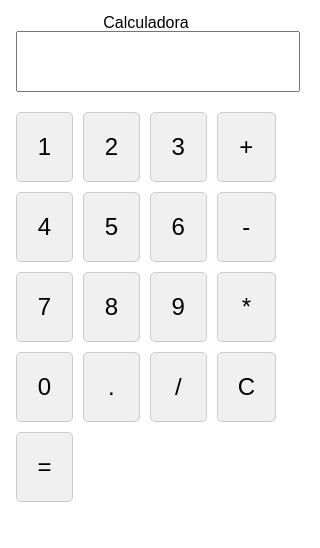
Test: Calculator Component › displays error for invalid input
This screenshot has width=320, height=548.
Click the button "1" at (44, 147), box [16,112,73,182]
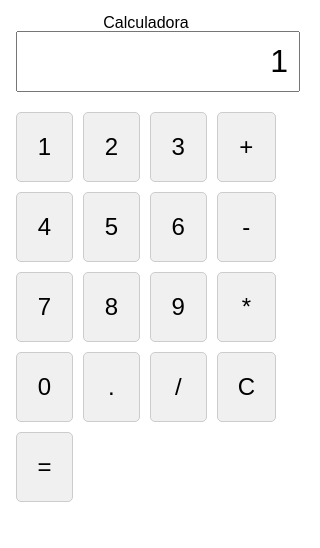
Click the button "+" at (246, 147), box [217,112,276,182]
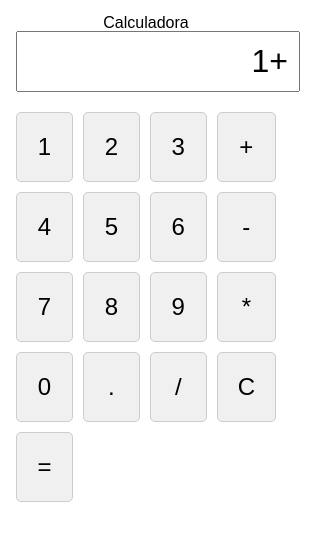
Click the button "+" at (246, 147), box [217,112,276,182]
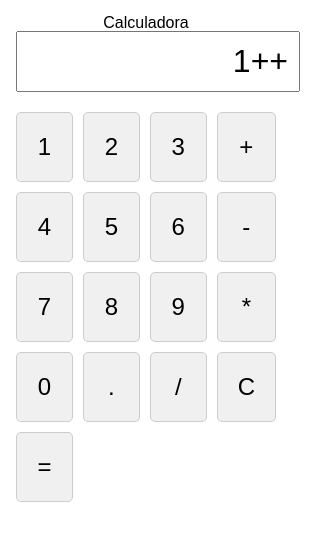
Click the button "=" at (44, 467), box [16,432,73,502]
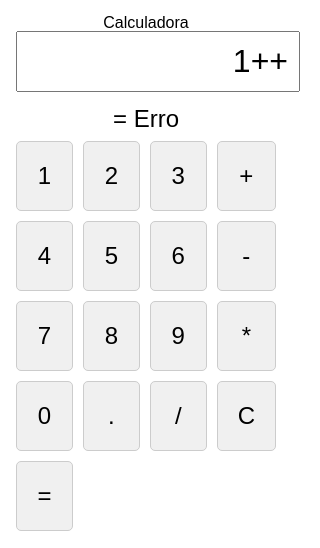
Expected: the text "= Erro" is shown, [113,105,179,132]
